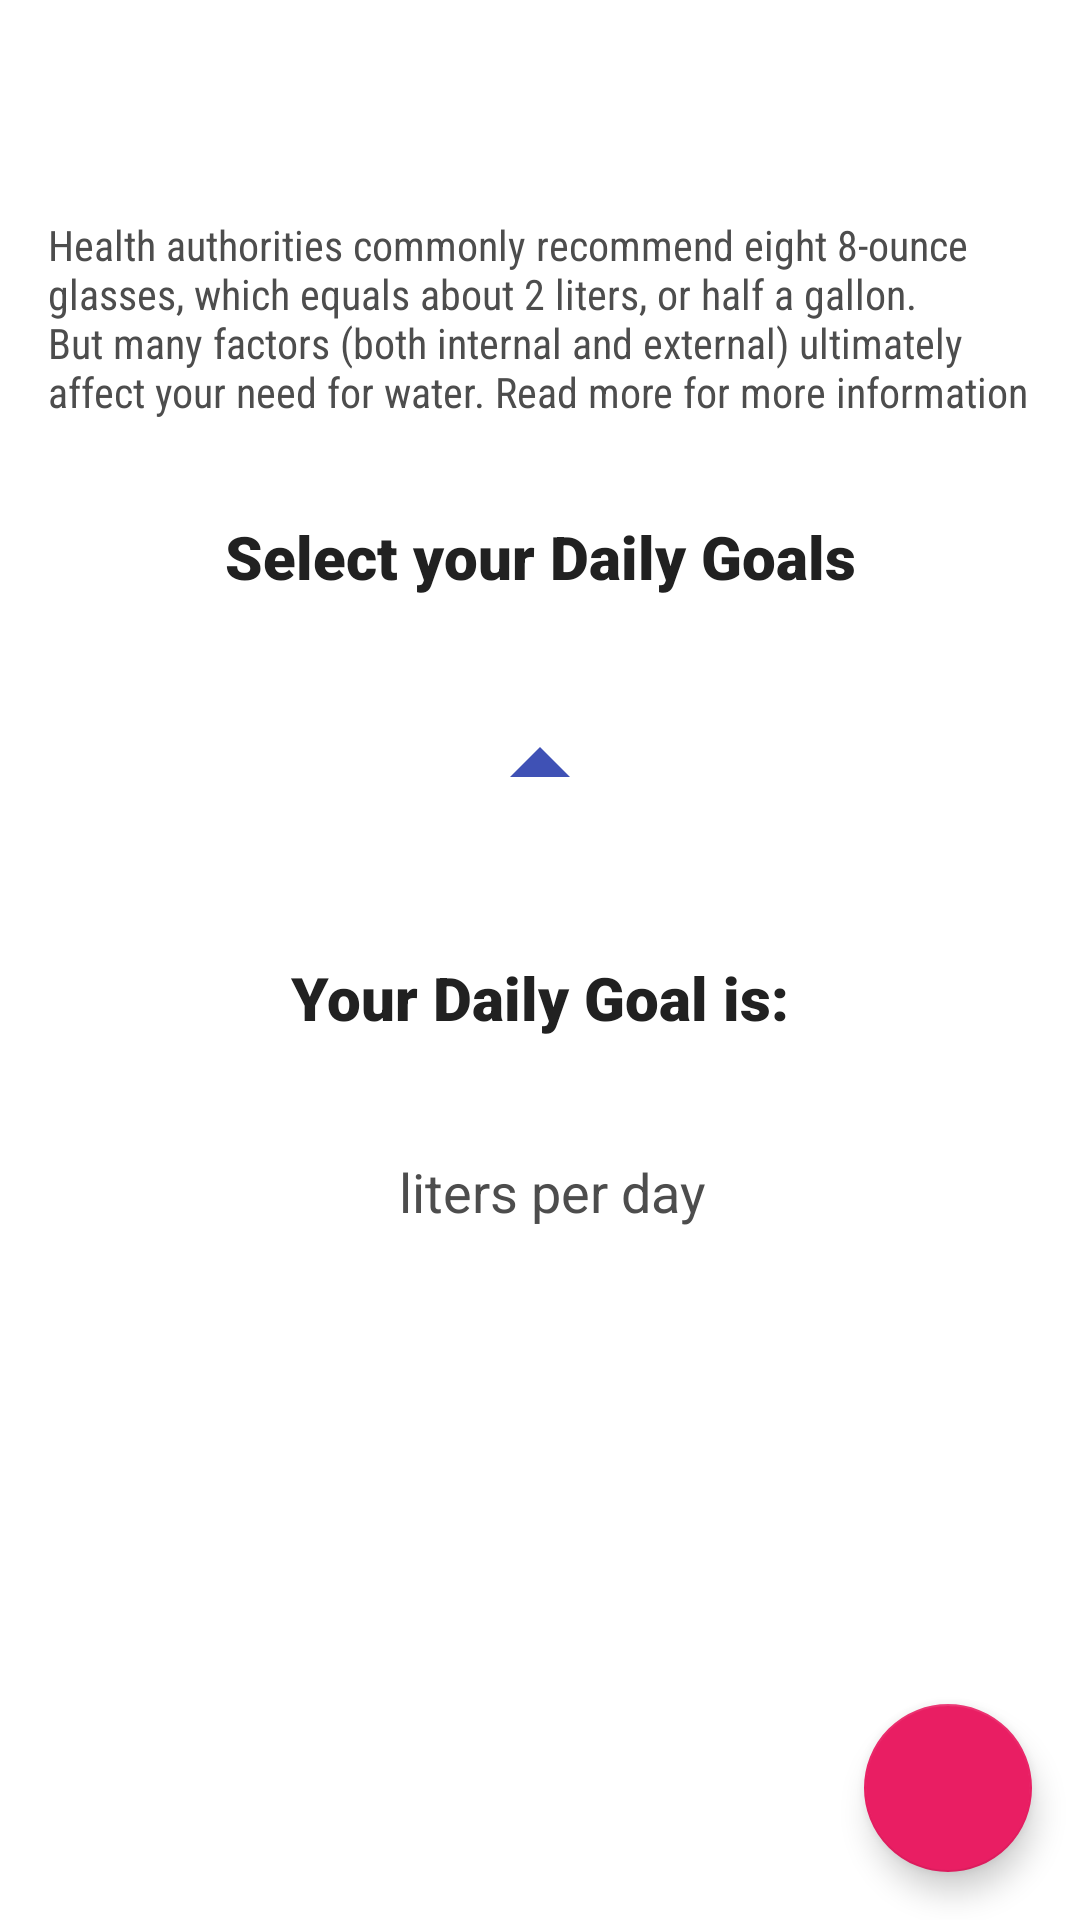

Icons on this 1080px×1920px Android screen, each with the point to tap as point (x, y):
arrow drop up: point (540, 762)
